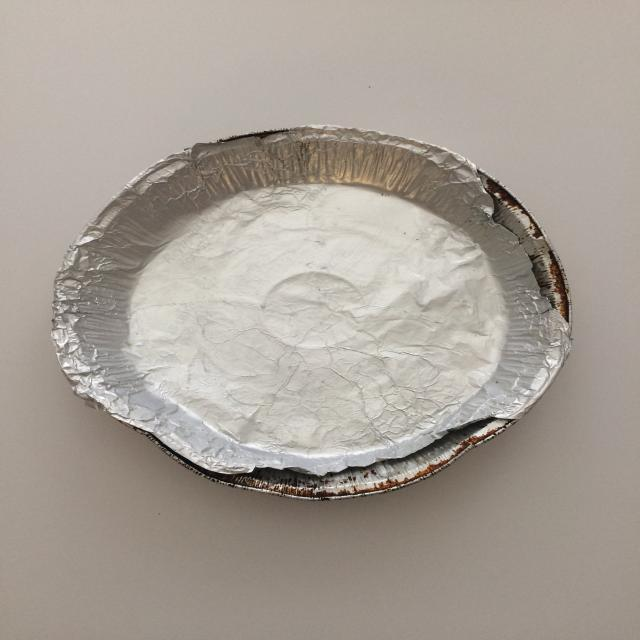metal: (52, 122, 574, 502)
